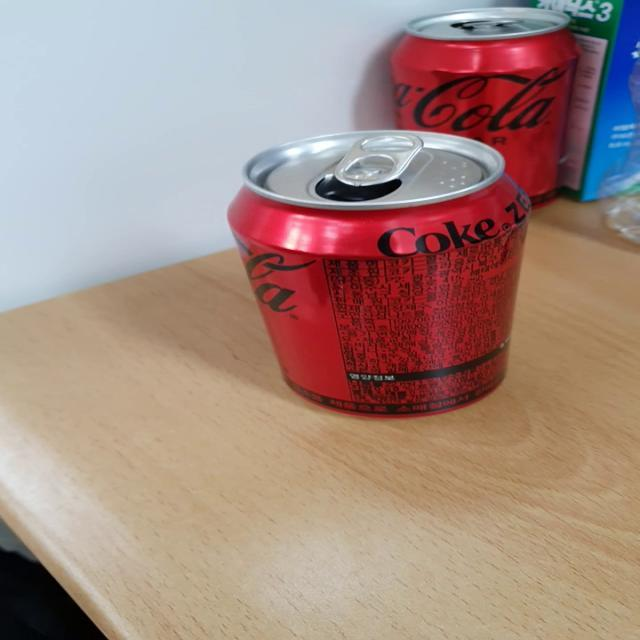coca-cola: (203, 123, 557, 427)
